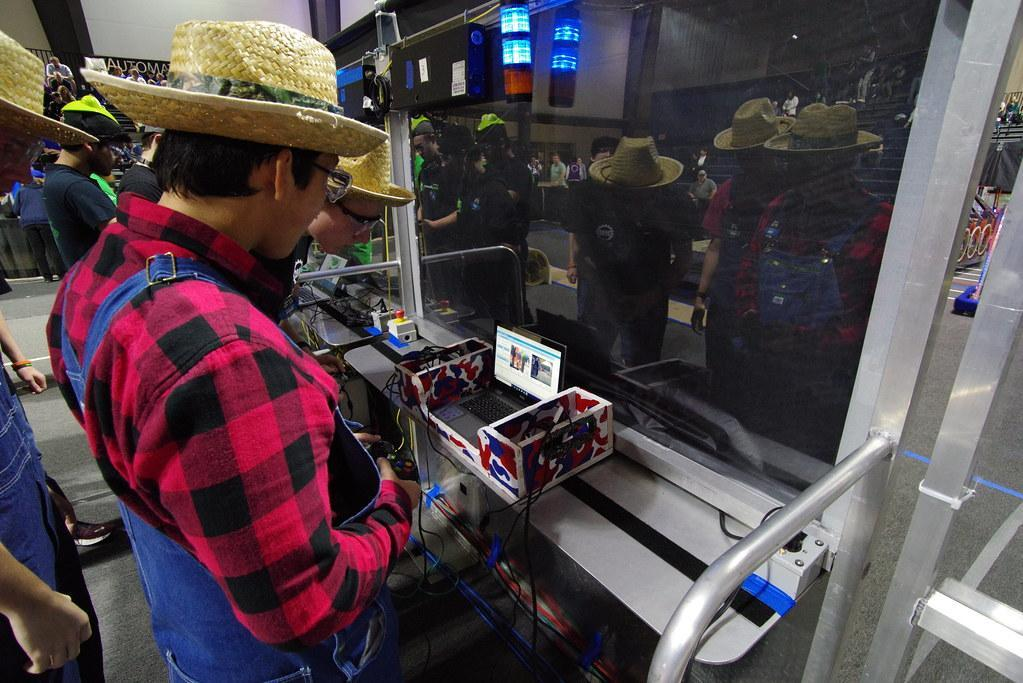robot: (950, 273, 991, 319)
